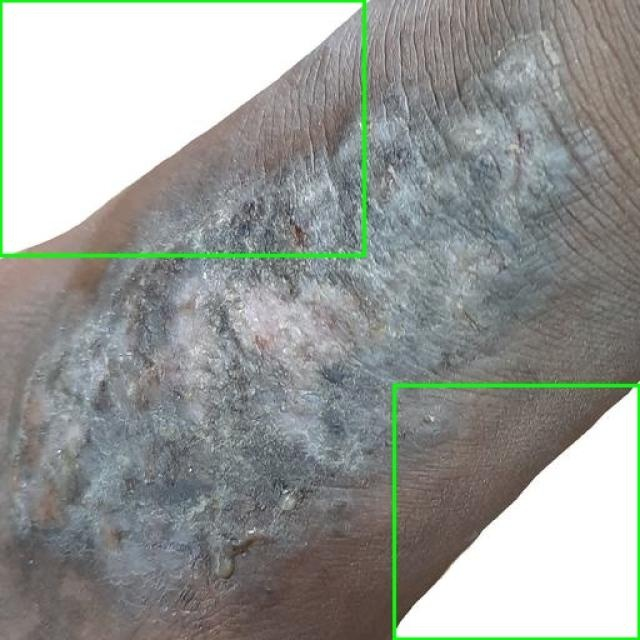Contact Dermatitis: (0, 0, 364, 255), (394, 385, 639, 639)
